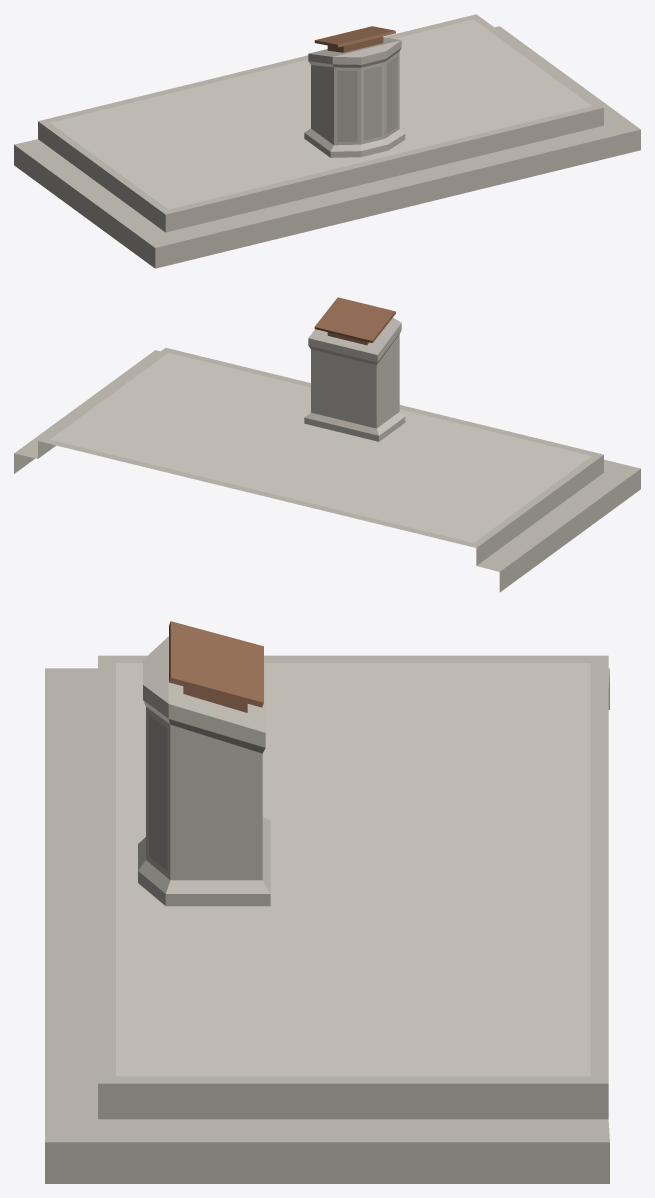
The model's file is altar.glb.
3 views of the same model, one above another, from view 1: azimuth 30°, elevation 25°; view 2: azimuth 150°, elevation 25°; view 3: azimuth 270°, elevation 25° (orthographic). The views are drawn at different scales.
Visible parts, largest first — view 1: SM_Prop_Church_Stand_01; view 2: SM_Prop_Church_Stand_01; view 3: SM_Prop_Church_Stand_01.
Boxes of the visible parts, <box> form: SM_Prop_Church_Stand_01: <box>14,14,640,268</box>; SM_Prop_Church_Stand_01: <box>14,297,640,592</box>; SM_Prop_Church_Stand_01: <box>45,621,609,1183</box>.
Bounding box in the file's own units: 5.4 × 1.58 × 2.72.
Materials: 1 (1 with a texture image).
